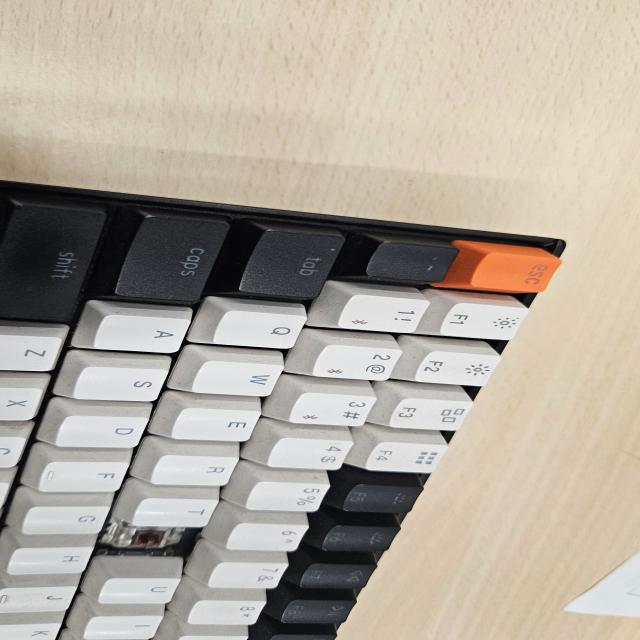C: (118, 521, 177, 558)
